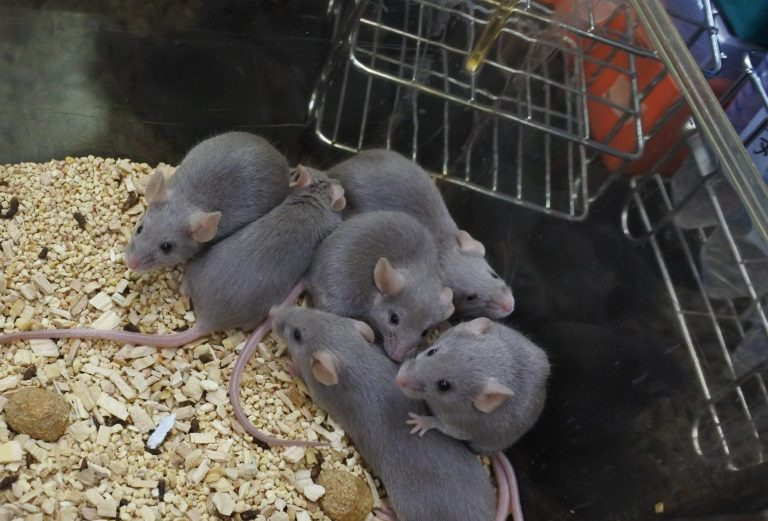mouse: (243, 316, 407, 497), (338, 153, 538, 297), (114, 126, 280, 261), (408, 304, 563, 446), (299, 207, 442, 349), (229, 159, 340, 303)
